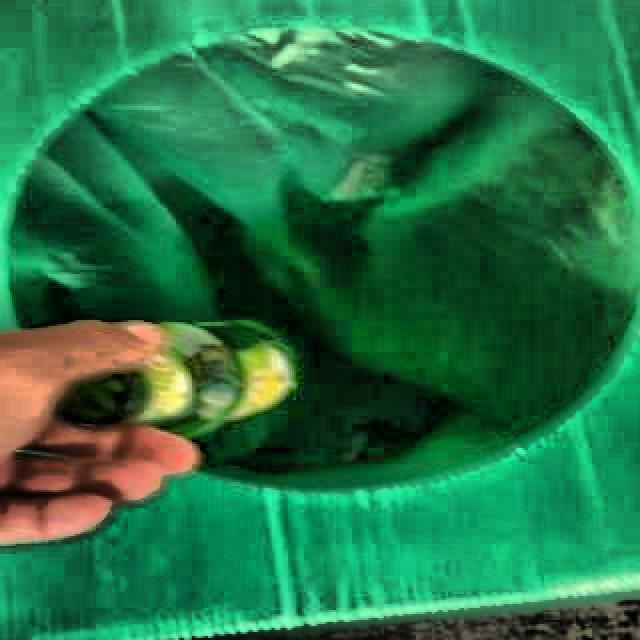glass: (59, 324, 291, 438)
